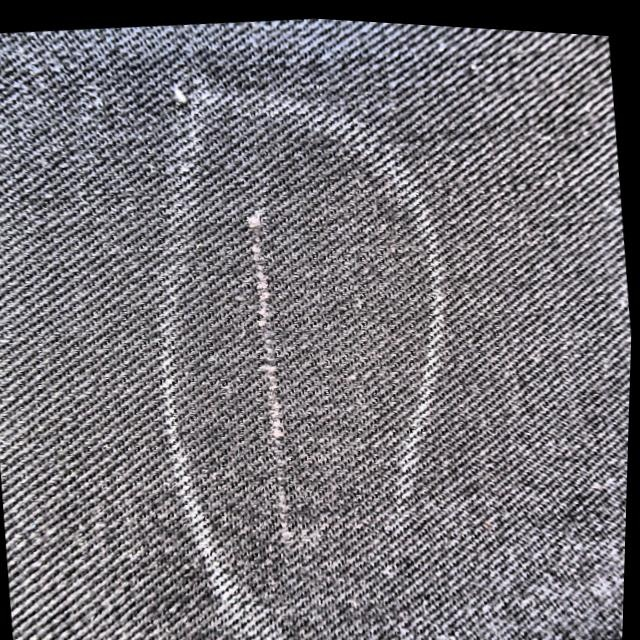Hole: (224, 201, 318, 532), (238, 196, 302, 526), (227, 205, 305, 475)
